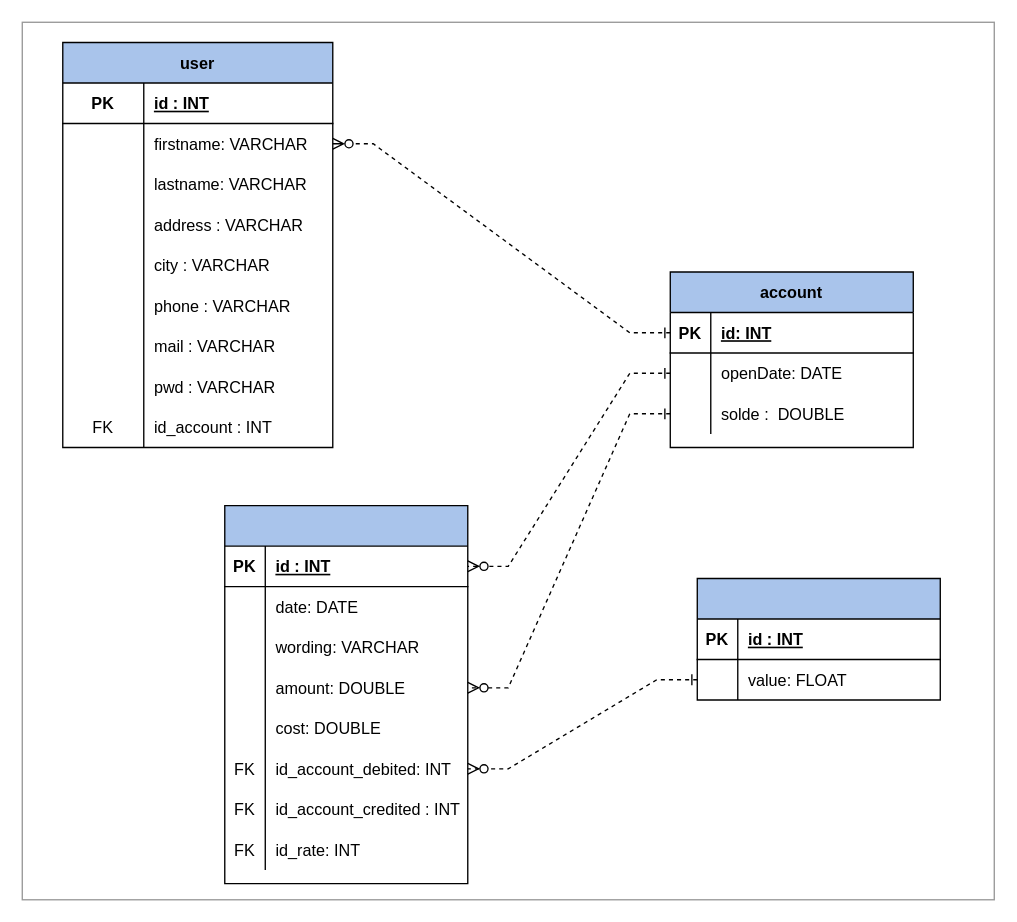
Some shapes in this 1017 by 922 pixel diagram are drawn without their labels. The shapes that lost their labels are listed below. From the top down, each one's box as (x1, y1, x2, y2) in pixels, then its label:
(696, 577, 940, 700): rate
(223, 504, 468, 884): transfer
